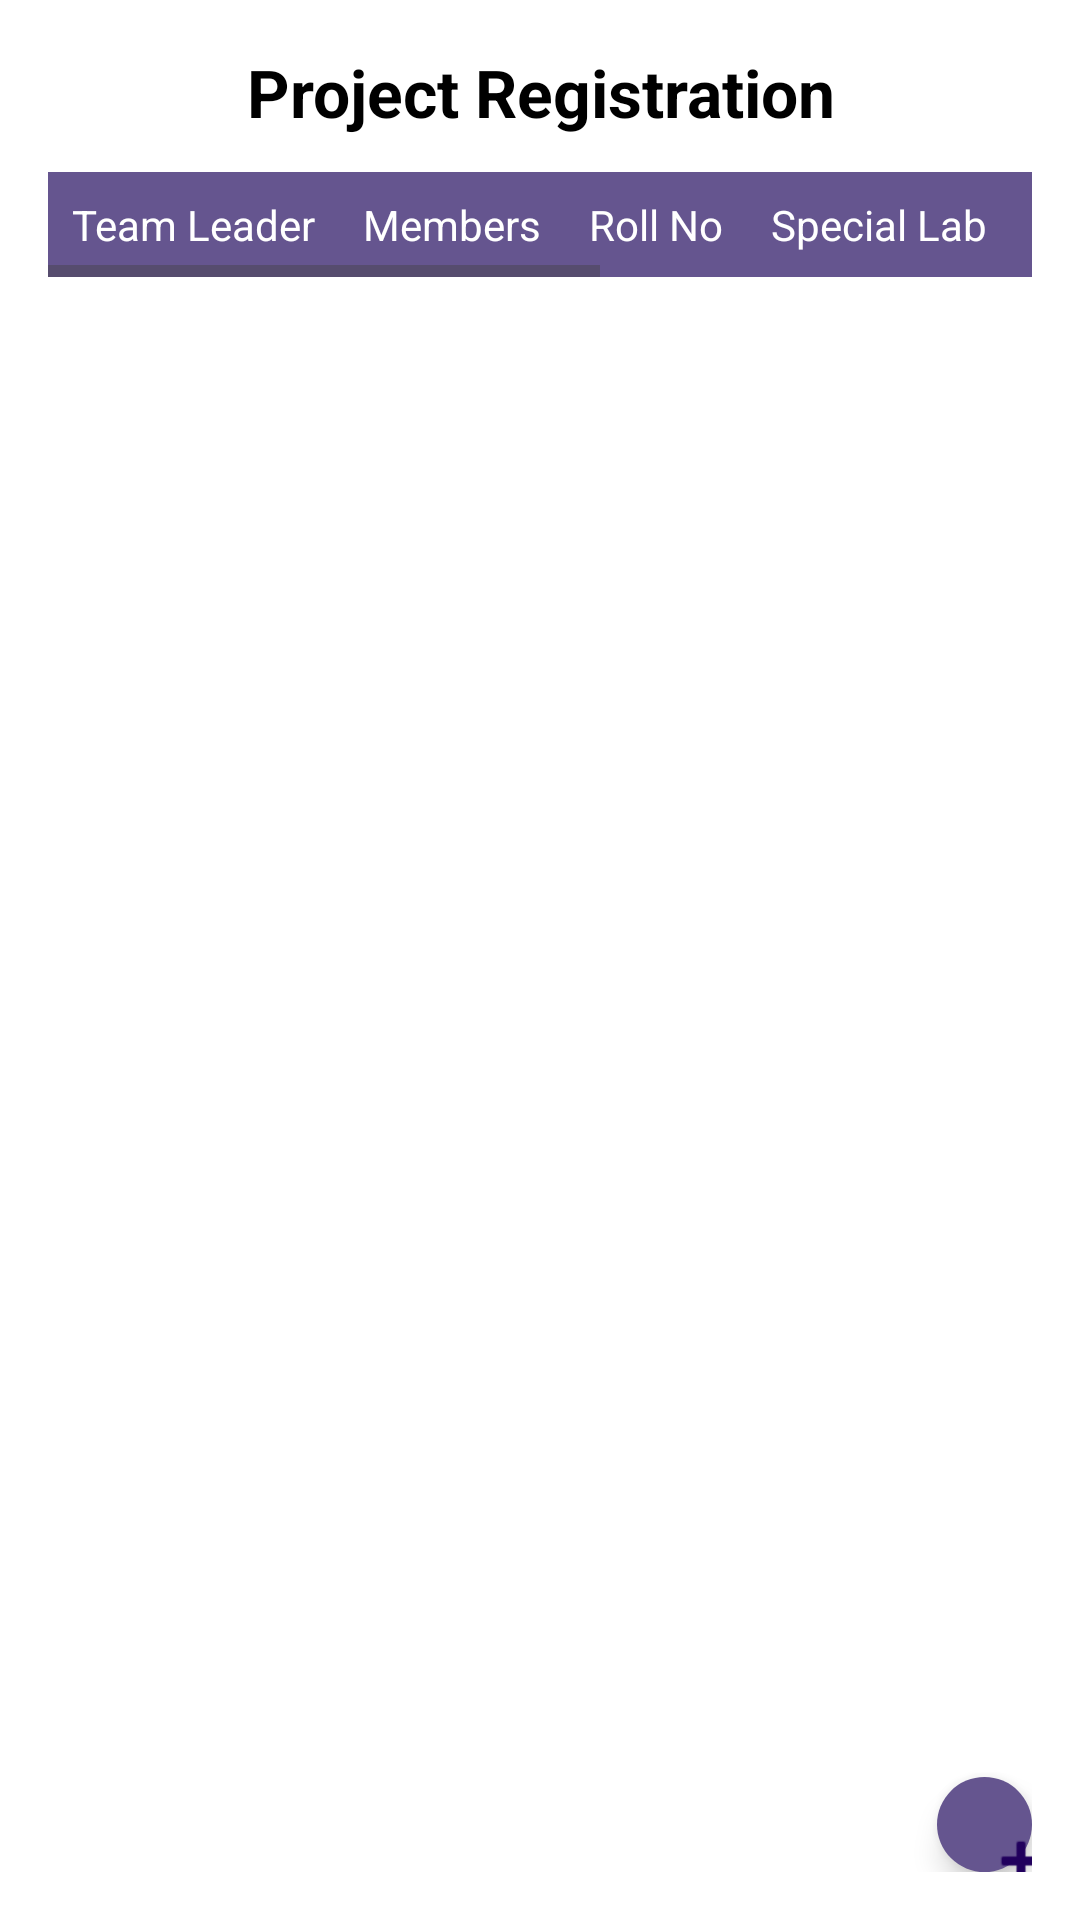

Point at icon controls on the screen. Image size 1080px x 1920px, points as (x=x, y=y).
add: (x=984, y=1824)
